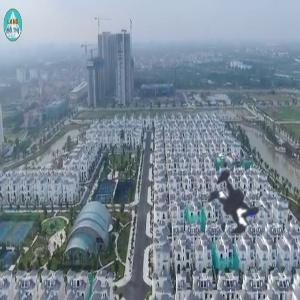drone: (173, 141, 298, 266)
